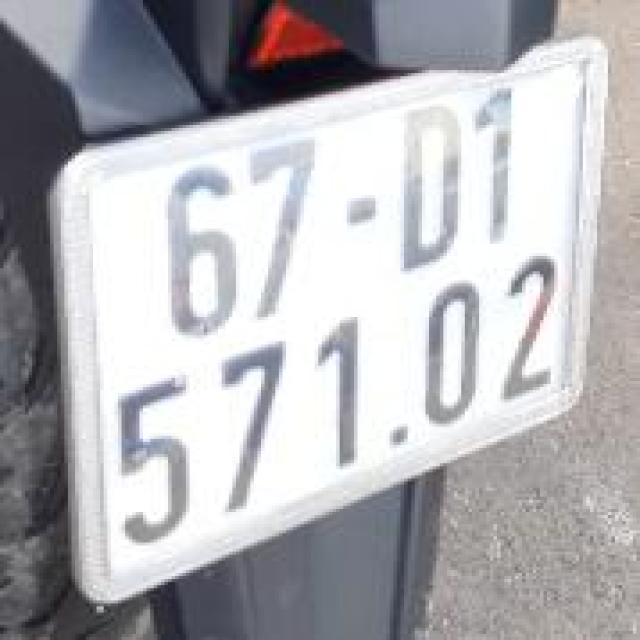0: (411, 272, 488, 445)
1: (470, 75, 532, 256), (314, 312, 377, 479)
2: (499, 249, 572, 418)
5: (108, 360, 198, 558)
6: (158, 163, 246, 342)
7: (203, 332, 305, 523), (241, 129, 331, 328)
D: (391, 92, 467, 287)
